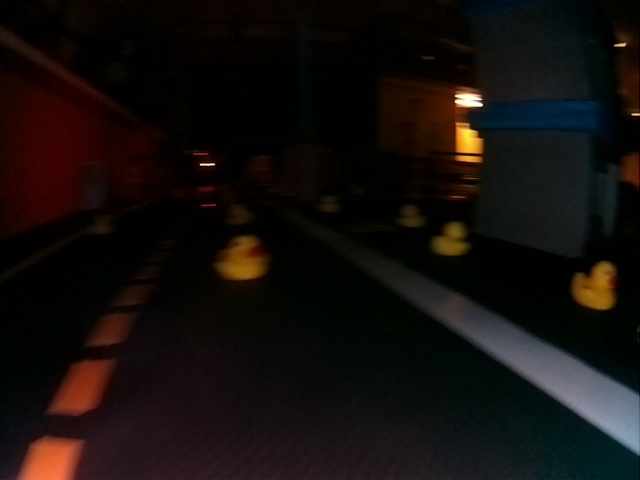Duckie: (214, 236, 268, 282), (573, 264, 613, 308), (432, 221, 465, 255), (396, 206, 428, 229), (227, 205, 254, 227), (87, 214, 112, 235), (317, 193, 337, 211)
